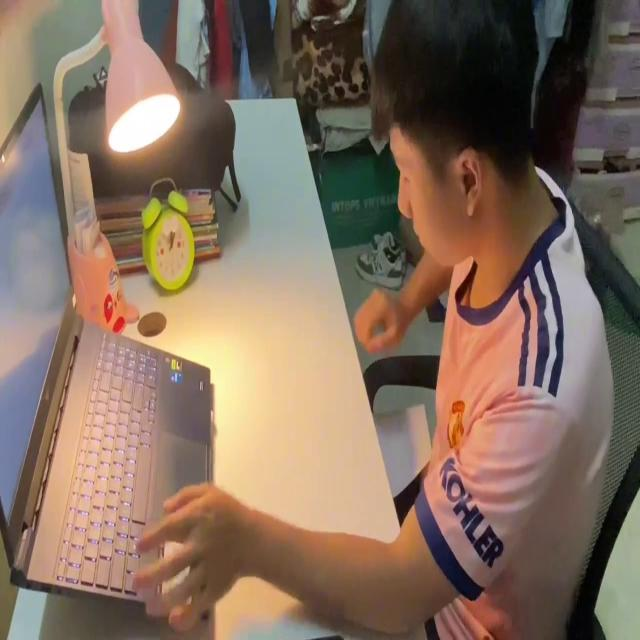laptop: (1, 78, 215, 628)
student: (138, 0, 616, 633)
